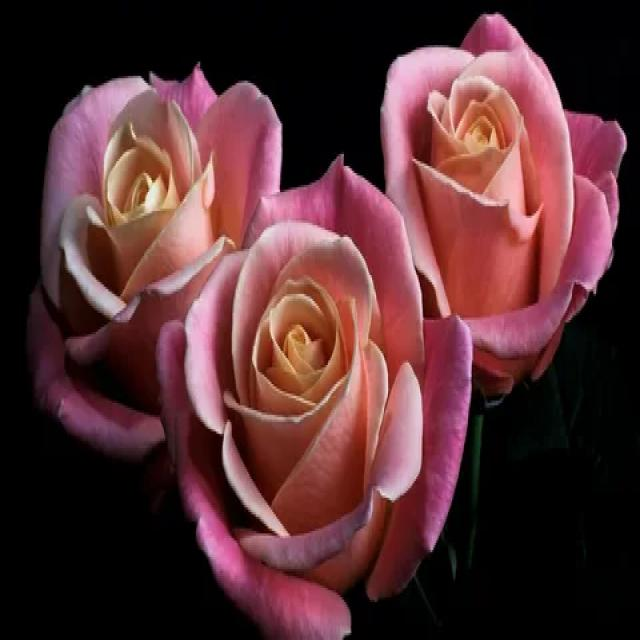rose: (161, 156, 480, 640)
